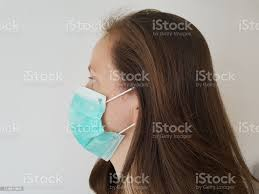with-mask: (63, 14, 182, 167)
